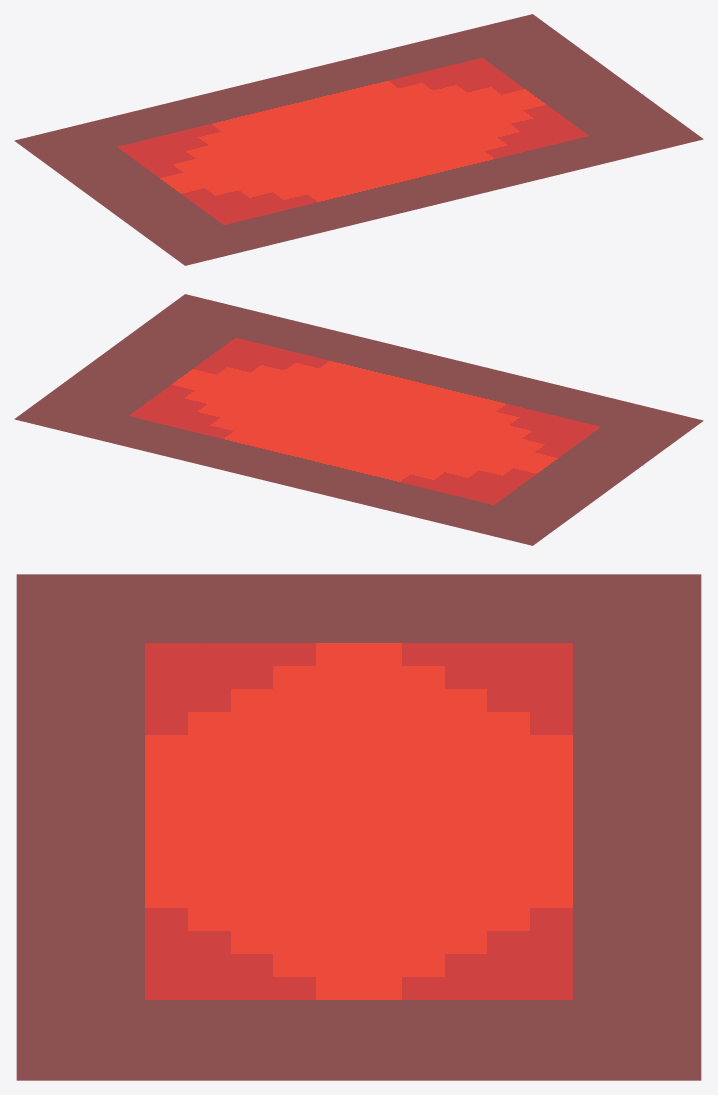
3 renders of one model, top to bottom at view 1: azimuth 30°, elevation 25°; view 2: azimuth 150°, elevation 25°; view 3: azimuth 270°, elevation 25°, orthographic. The views are drawn at different scales.
Bounding box in the file's own units: 1.75 × 0 × 1.
Materials: 1 (1 with a texture image).
